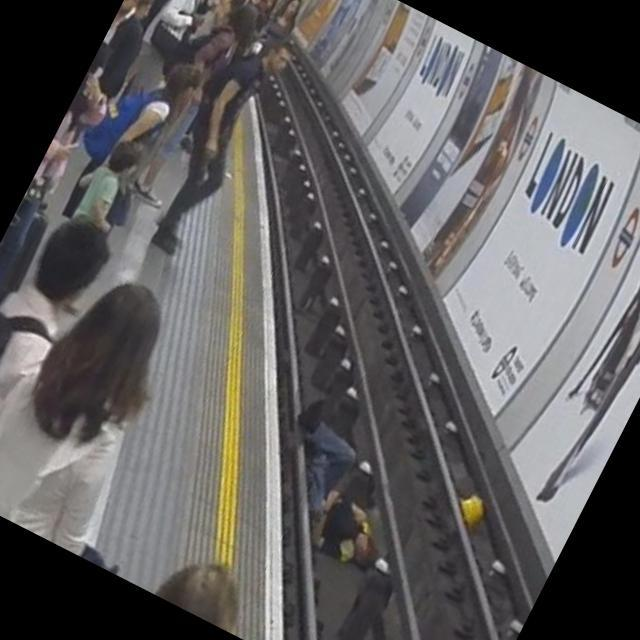person: (0, 254, 200, 554), (136, 22, 304, 272), (244, 390, 436, 584), (0, 194, 119, 506), (100, 37, 216, 164), (129, 0, 235, 96), (74, 128, 160, 233), (259, 0, 315, 48)
